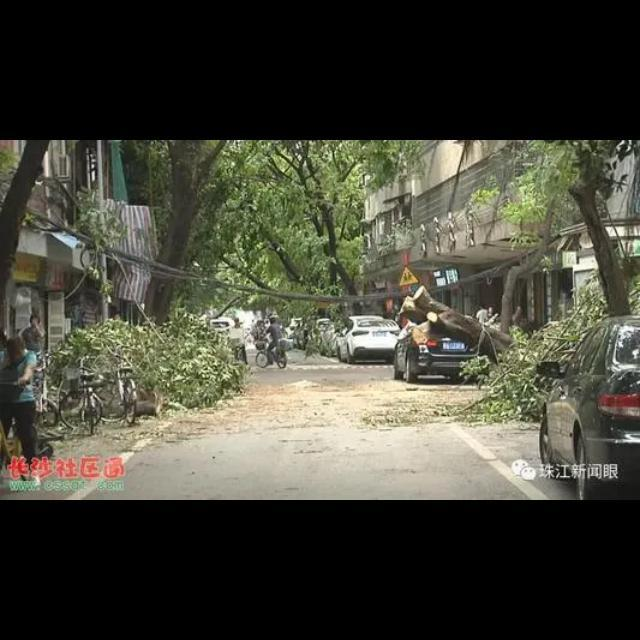fallen_tree: (56, 257, 245, 405), (398, 283, 532, 381)
